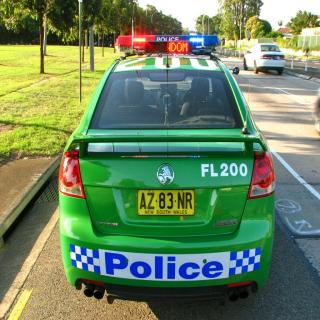license: (138, 190, 197, 218)
